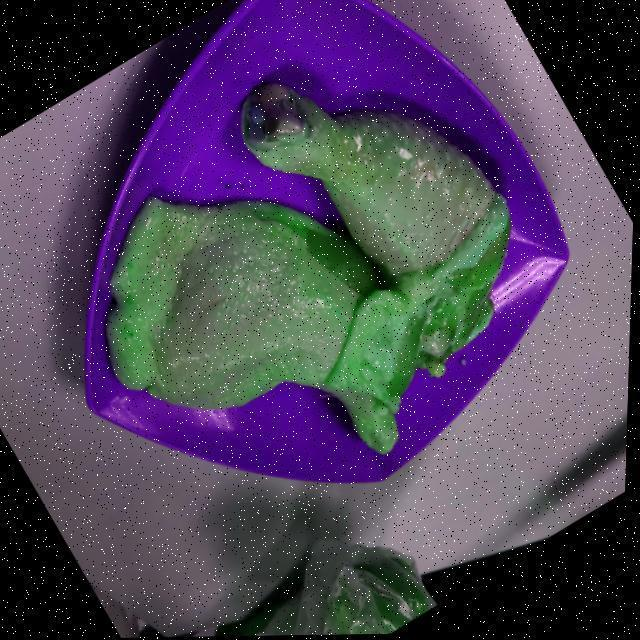quater: (129, 199, 407, 442), (267, 75, 497, 332)
